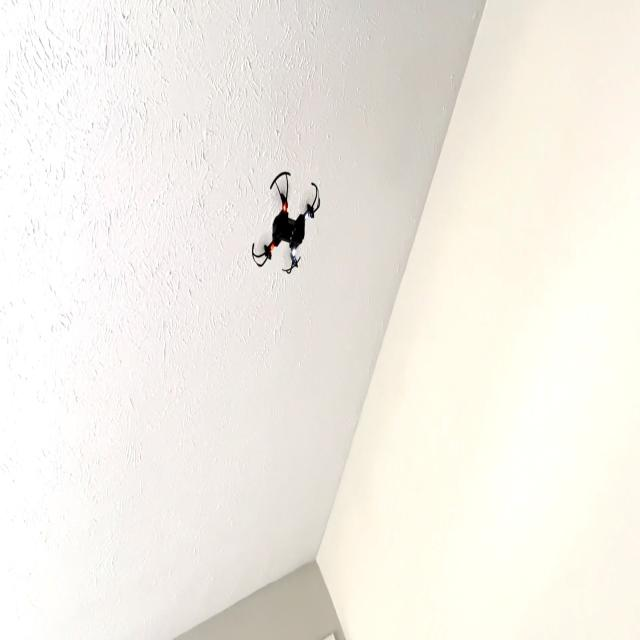drone: (245, 160, 328, 290)
